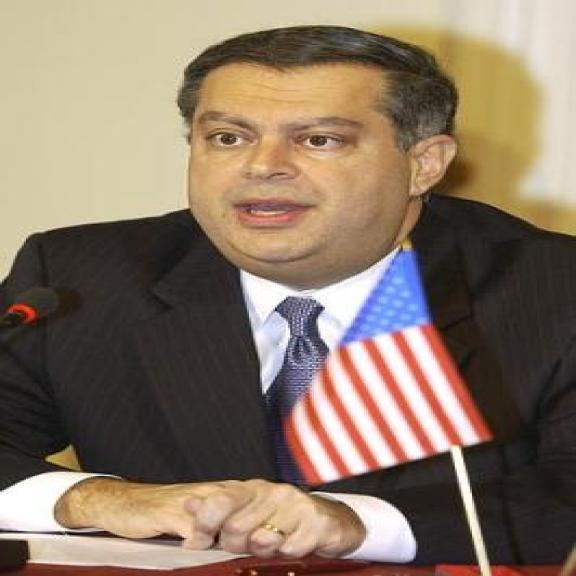face: (184, 64, 458, 282)
